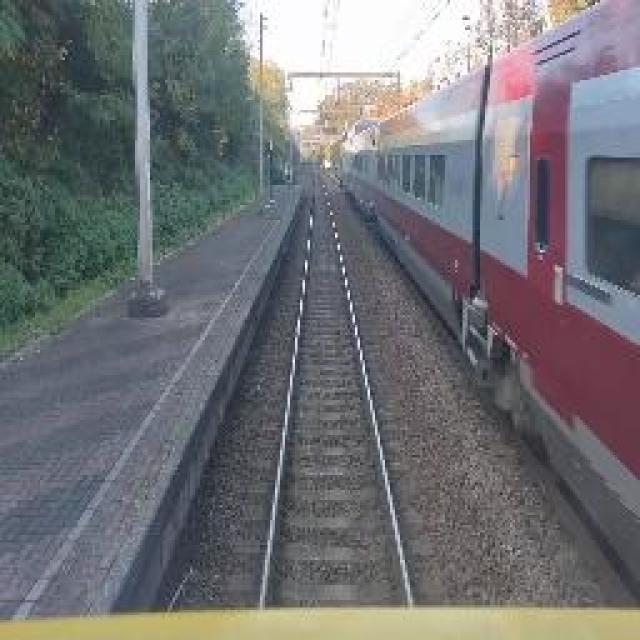rail: (225, 164, 440, 608)
